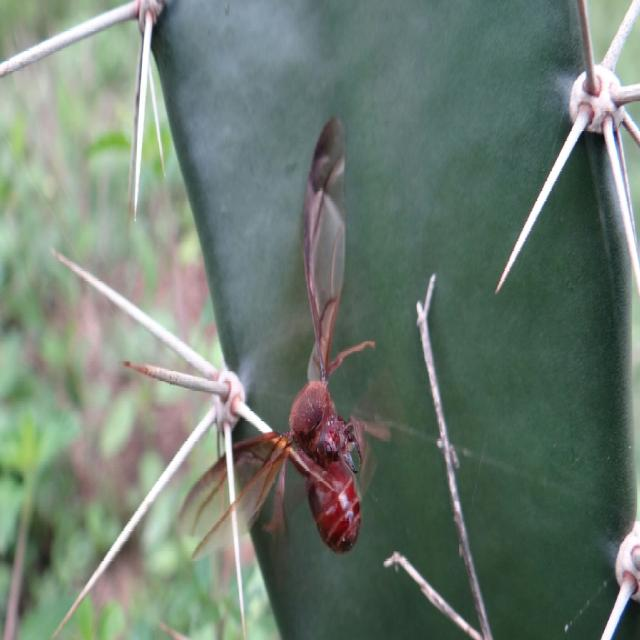Alive-Female-Alate: (172, 116, 410, 564)
